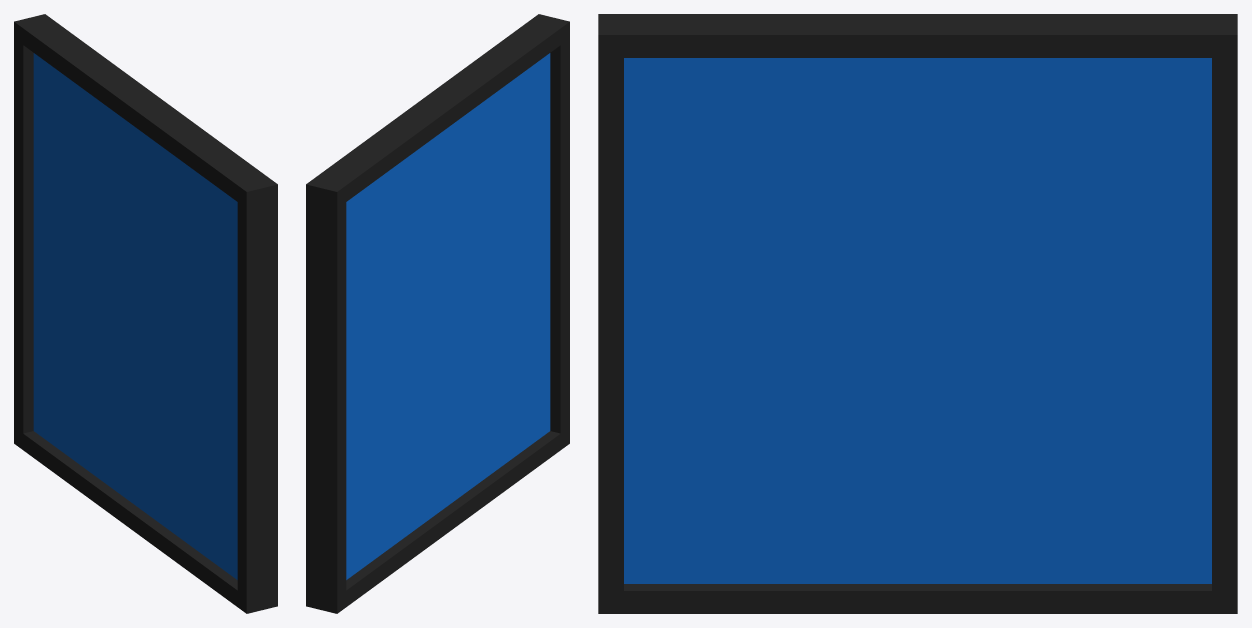
File: advertbanner_06.fbx
The picture shows the model from 3 angles, left to right: view 1: azimuth 30°, elevation 25°; view 2: azimuth 150°, elevation 25°; view 3: azimuth 270°, elevation 25°; orthographic projection. The views are drawn at different scales.
Parts seen in each view (by area): view 1: advertbanner_06; view 2: advertbanner_06; view 3: advertbanner_06.
Part boxes in pixels (x1,y1,x2,y2): advertbanner_06: [14, 14, 277, 613]; advertbanner_06: [306, 14, 569, 613]; advertbanner_06: [598, 14, 1237, 613].
Size of the model in its own units: 0.3025 by 3.91 by 3.91.
